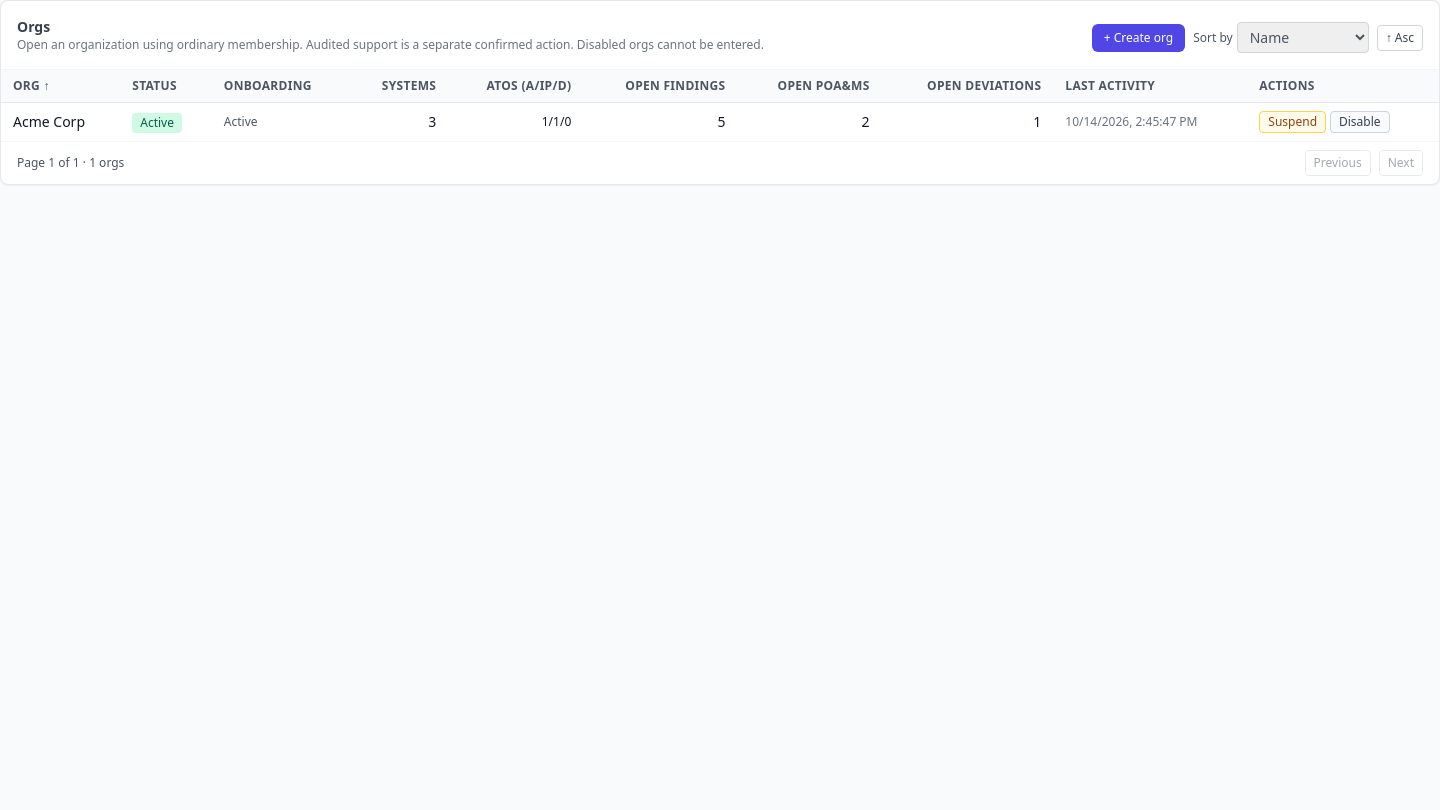
OrgsTable — confirmation dialogs (Wave 6 GAP-221-A) › clicking Suspend opens a dialog with Suspend heading
This screenshot has width=1440, height=810.
Click the button "Suspend": coordinates (1293, 122) [1259,111,1326,133]
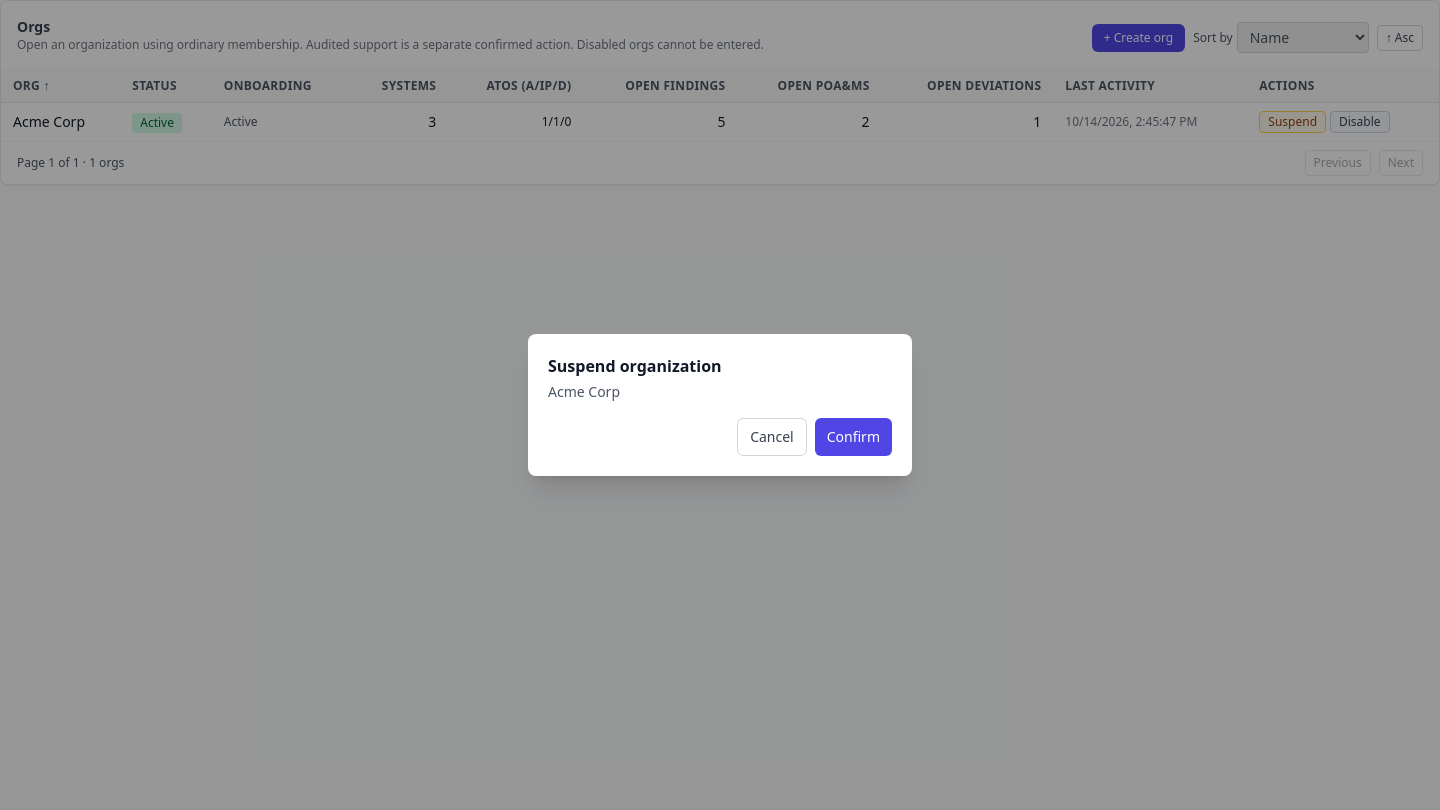
Expected: the dialog is shown
Expected: the dialog shows "Suspend", [548,355,616,377]
